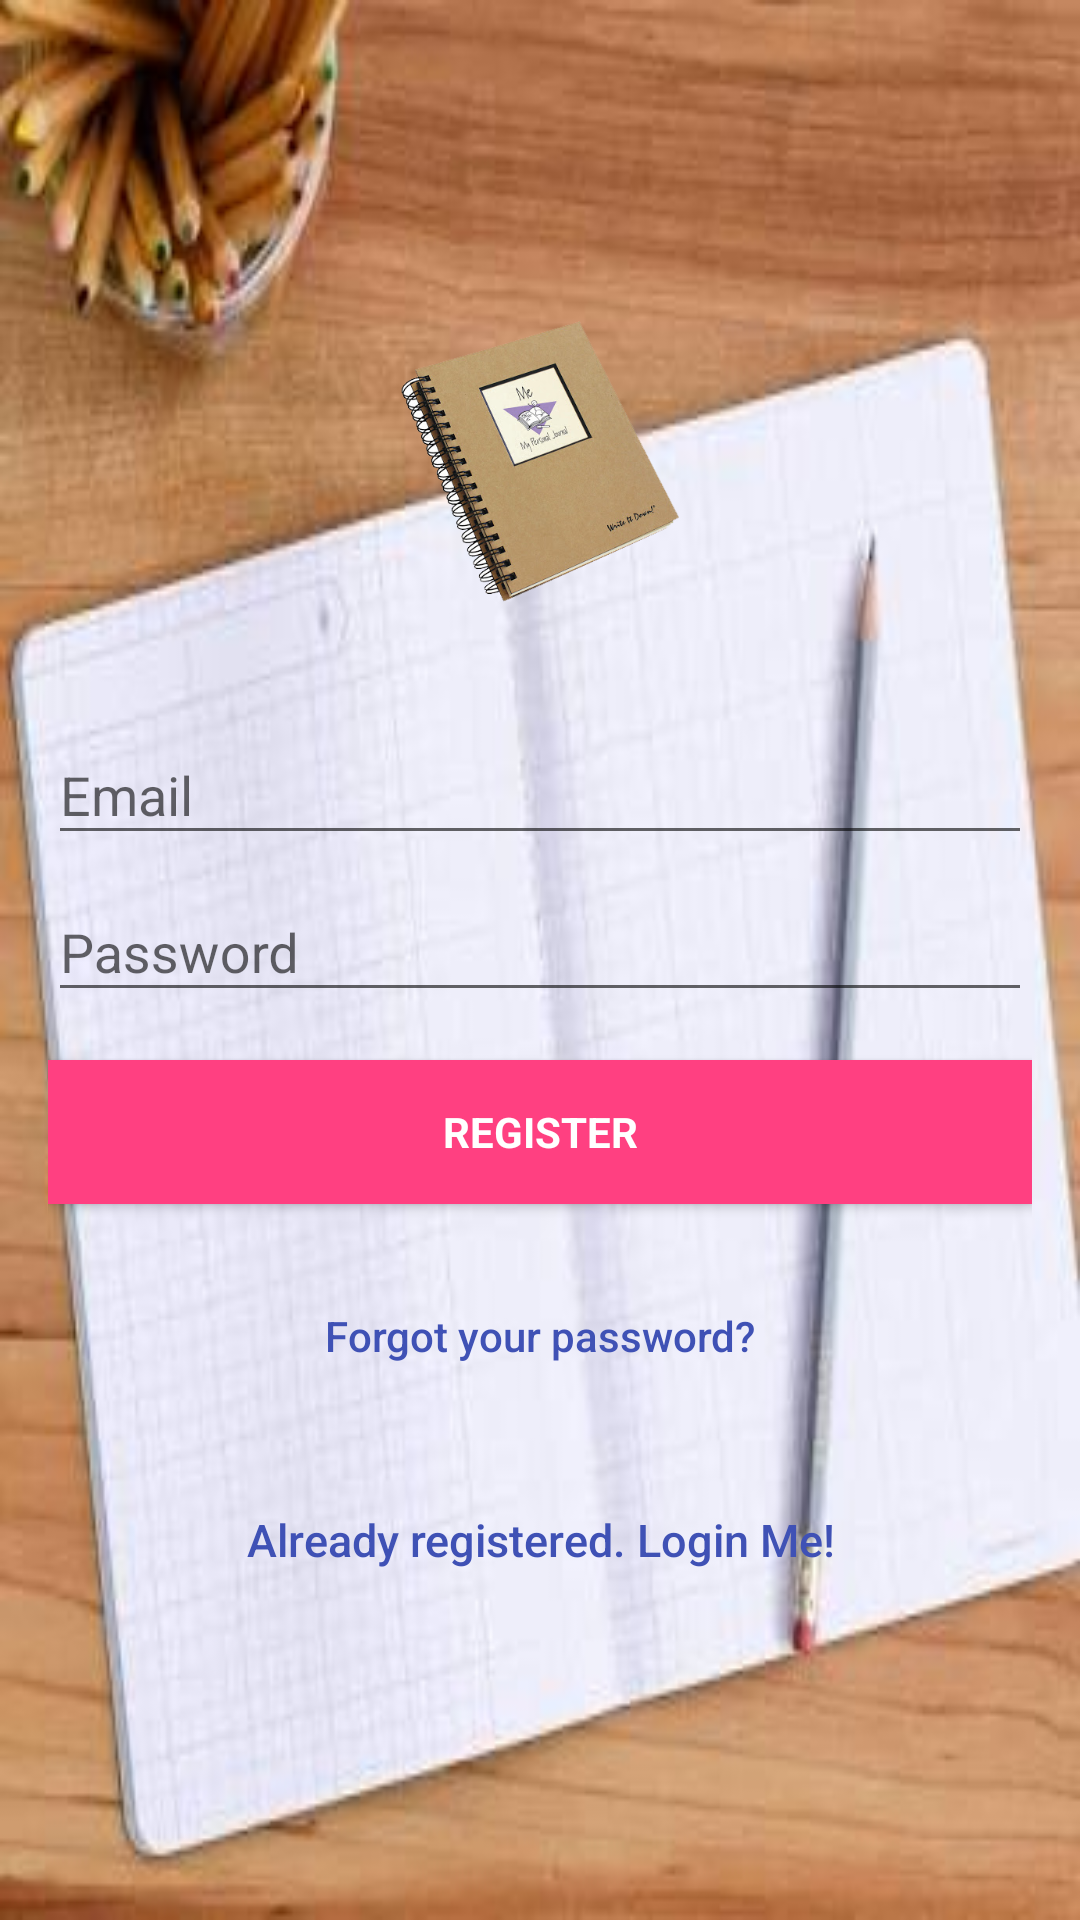

Icon click points for this 1080px x 1920px phone screenshot, format [x,y]:
Journal icon: [540,458]
